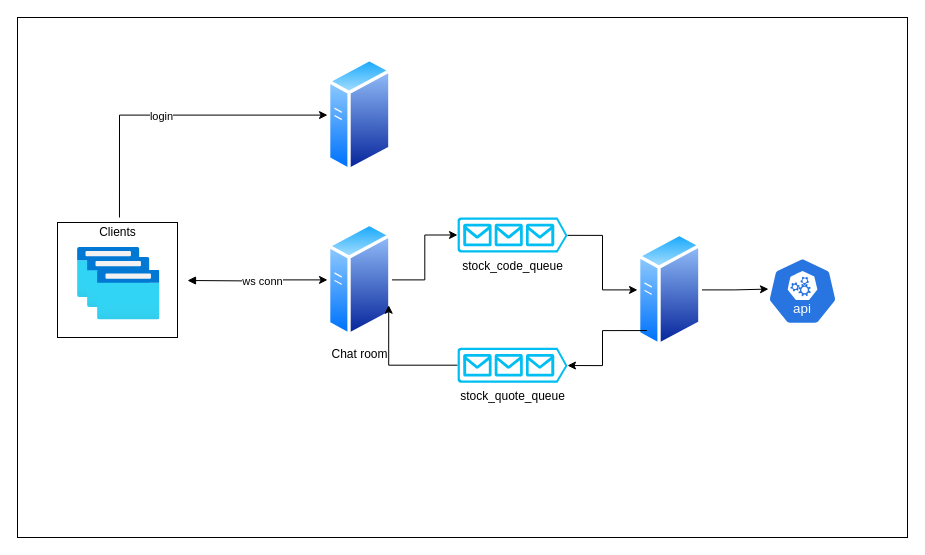
This 925x555 diagram has some shape labels left out. Each missing label, with the centre of its shape:
"Authentication" belongs at point (359, 114).
"Bot" belongs at point (669, 289).
